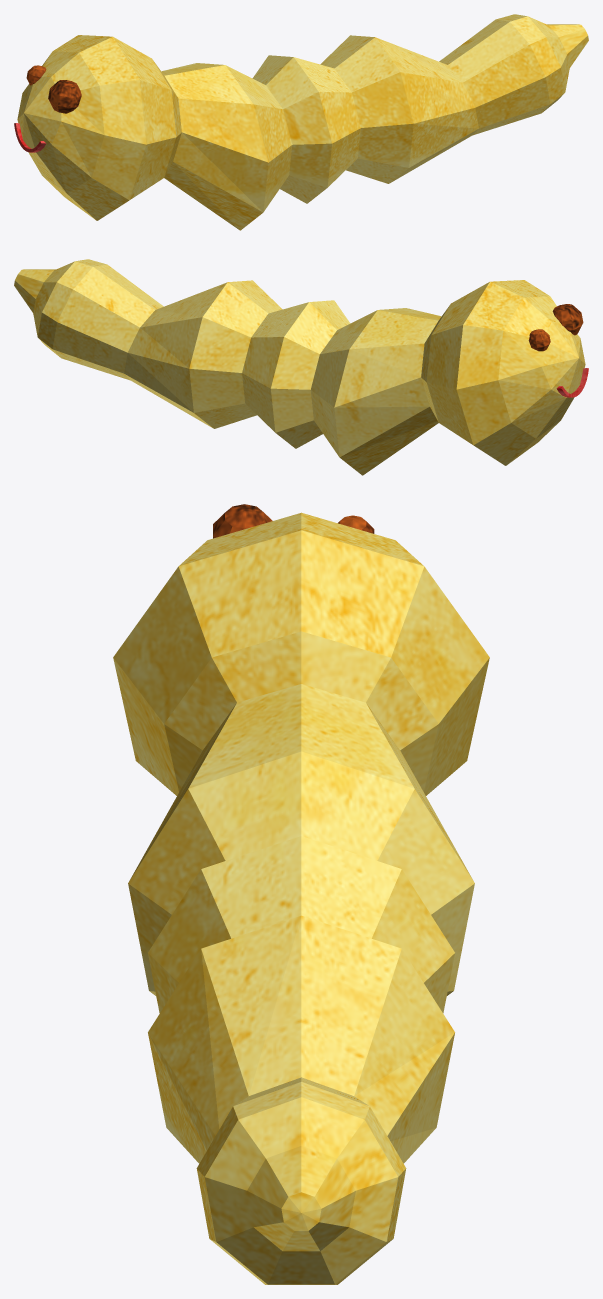
File: Raupe.fbx
3 views of the same model, one above another, from view 1: azimuth 30°, elevation 25°; view 2: azimuth 150°, elevation 25°; view 3: azimuth 270°, elevation 25° (orthographic). The views are drawn at different scales.
Parts seen in each view (by area): view 1: Röhre; view 2: Röhre; view 3: Röhre.
Part boxes in pixels (x1=…): Röhre: x1=14, y1=14, x2=588, y2=230; Röhre: x1=14, y1=259, x2=588, y2=475; Röhre: x1=113, y1=504, x2=489, y2=1284.
Bounding box in the file's own units: 273 × 97.64 × 79.17.
